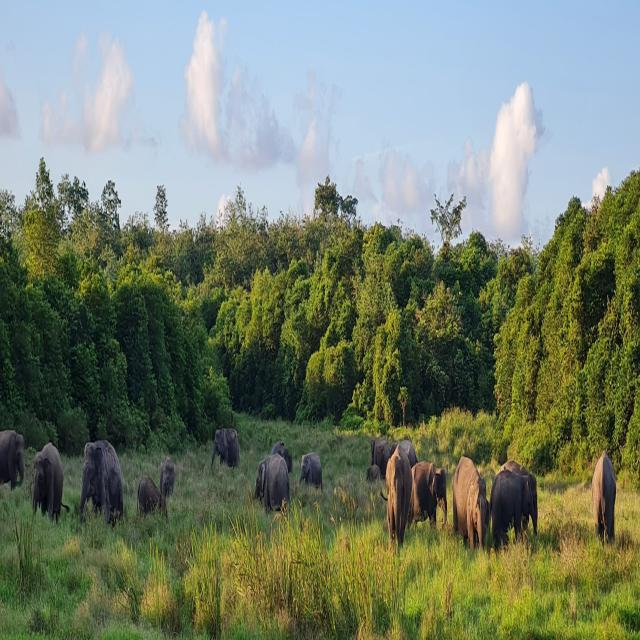Elephant: (489, 462, 540, 561), (76, 434, 126, 528), (452, 452, 489, 550), (385, 443, 416, 555), (252, 439, 289, 526), (31, 438, 63, 538), (413, 456, 448, 540), (592, 445, 619, 550), (0, 421, 28, 505), (136, 466, 166, 534), (208, 419, 244, 474), (299, 447, 326, 501)
